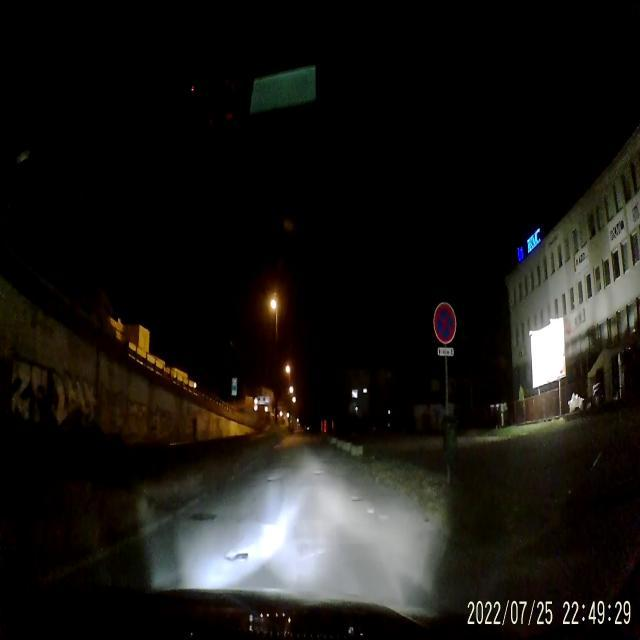Pothole: (188, 504, 214, 532), (217, 546, 253, 564), (262, 472, 286, 489), (307, 466, 327, 482), (347, 490, 368, 504)
